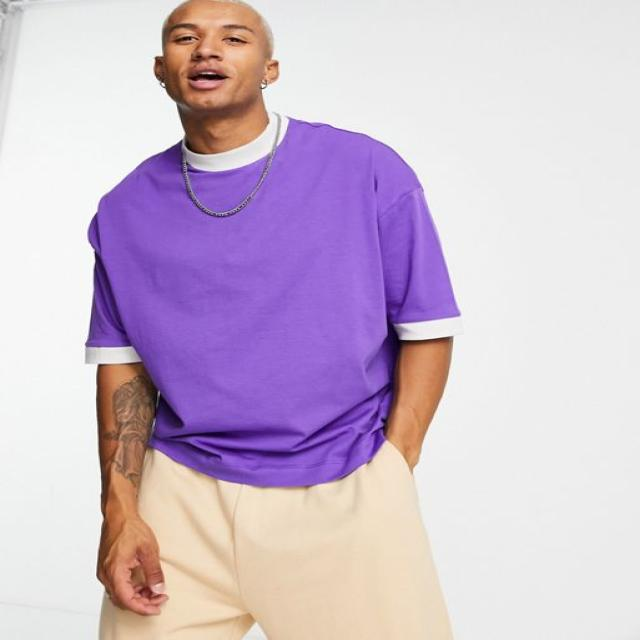tshirt: (82, 112, 463, 488)
